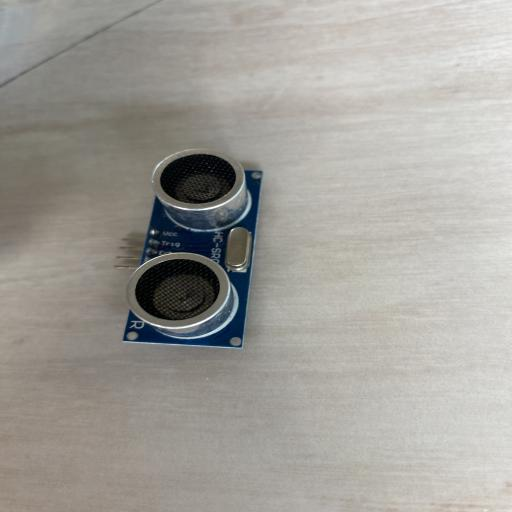Ultrasonic Sensor: (114, 148, 264, 349)
